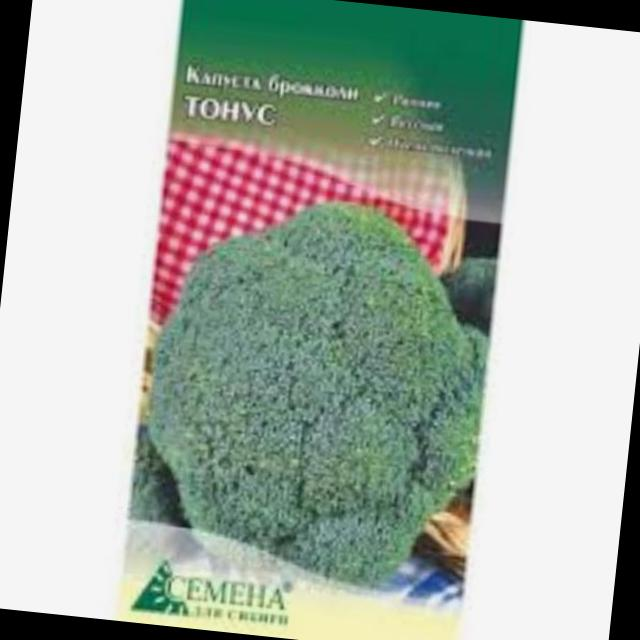Broccoli: (119, 183, 512, 600)
